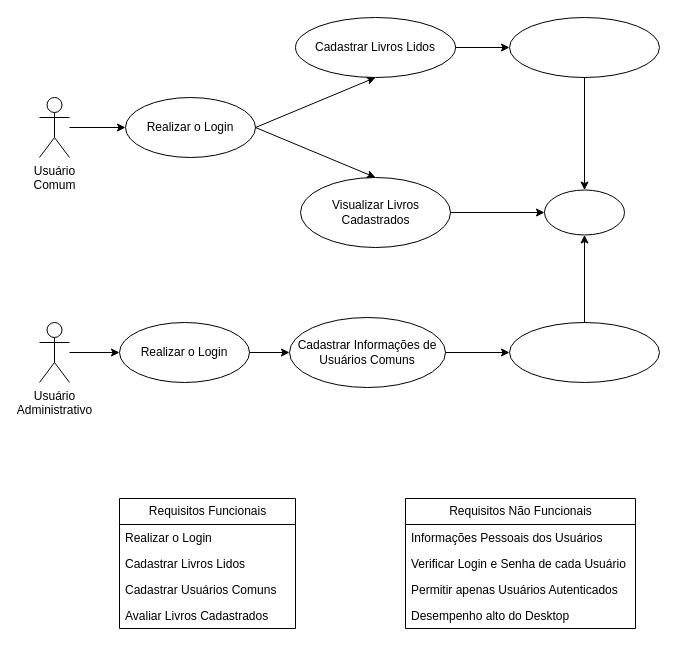
Some shapes in this 677 by 649 pixel diagram are drawn without their labels. Each missing label, with the centre of its shape:
Avaliar Livros Lidos: the point at 584,47
Sair: the point at 584,212
Visualizar Usuários Comuns e Livros Cadastrados: the point at 584,352
